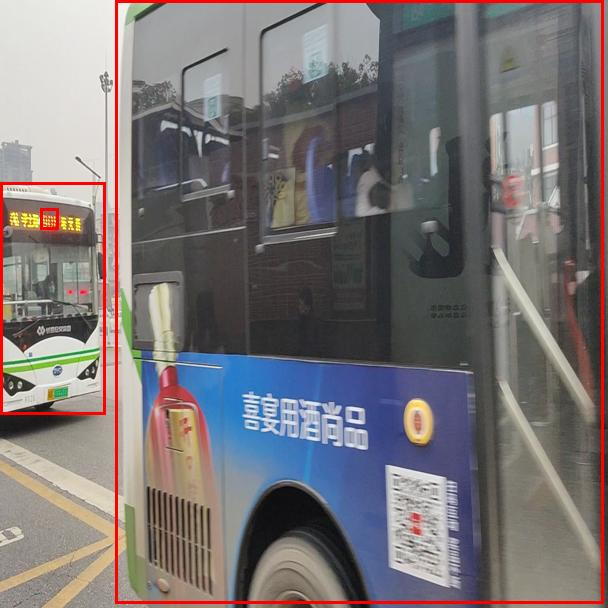bus: (115, 0, 603, 603), (0, 182, 105, 414)
screen: (40, 208, 58, 229)
